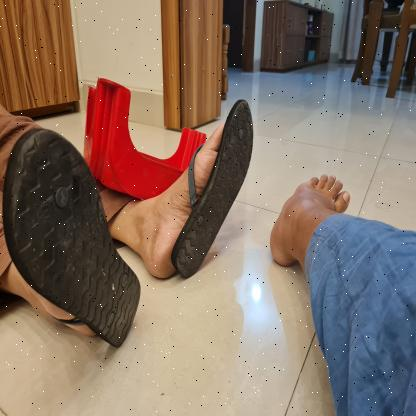leg: (120, 95, 258, 284), (264, 163, 356, 283)
